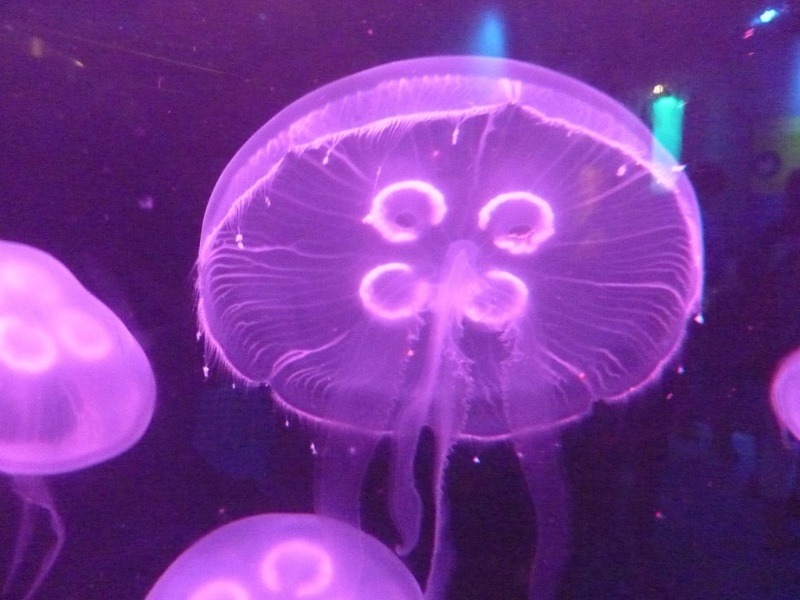Jellyfish: (183, 54, 705, 600), (0, 240, 156, 600), (144, 512, 424, 600), (770, 348, 800, 448)
